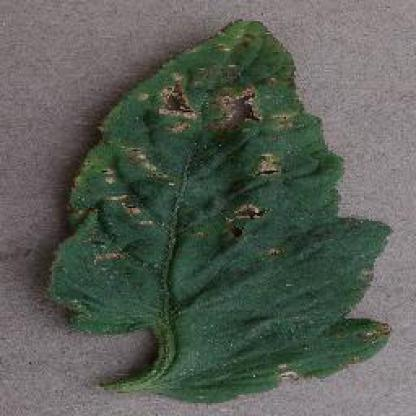bad leaf: (20, 13, 377, 385)
